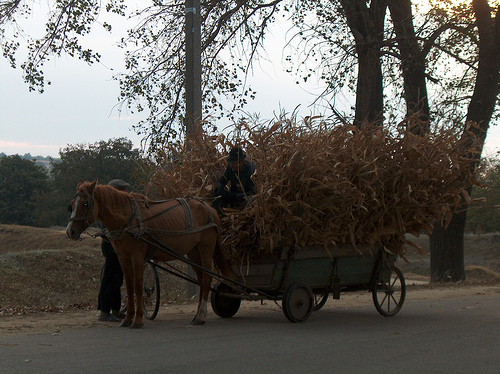horse: (65, 178, 224, 328)
